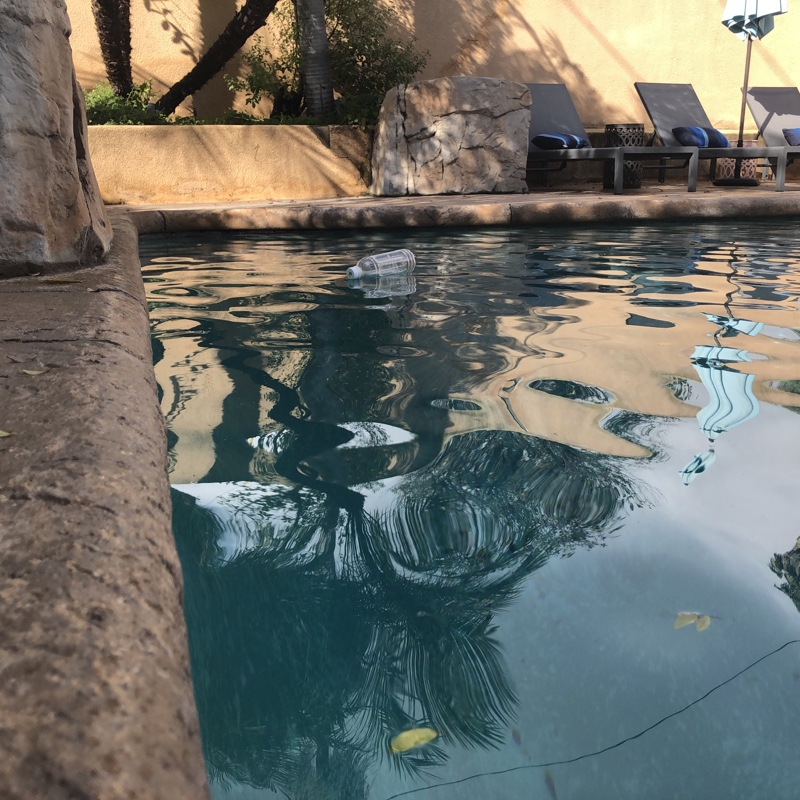Plastic Bottle: (343, 248, 419, 281)
